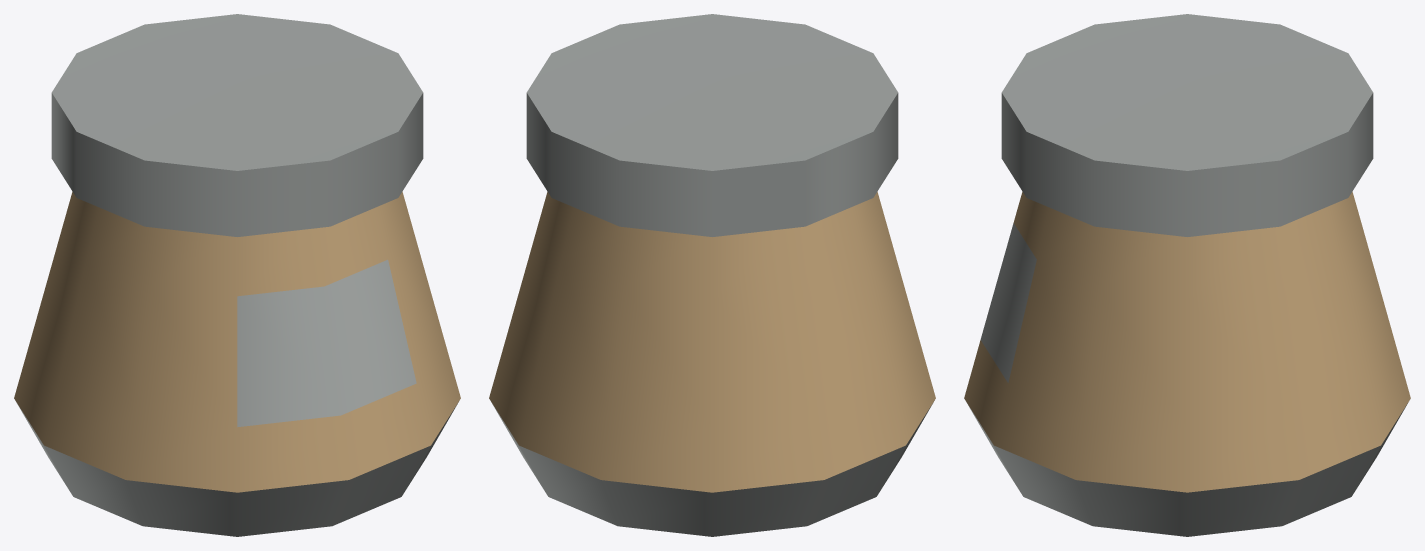
The picture shows the model from 3 angles, left to right: view 1: azimuth 30°, elevation 25°; view 2: azimuth 150°, elevation 25°; view 3: azimuth 270°, elevation 25°; orthographic projection.
Parts seen in each view (by area): view 1: G:\FFXIV-MapTools\exports\x6f2\bg\ex5\01_xkt_x6\fld\x6f2\bgp; view 2: G:\FFXIV-MapTools\exports\x6f2\bg\ex5\01_xkt_x6\fld\x6f2\bgp; view 3: G:\FFXIV-MapTools\exports\x6f2\bg\ex5\01_xkt_x6\fld\x6f2\bgp.
Boxes of the visible parts, x1=… form: G:\FFXIV-MapTools\exports\x6f2\bg\ex5\01_xkt_x6\fld\x6f2\bgp: x1=14, y1=14, x2=460, y2=536; G:\FFXIV-MapTools\exports\x6f2\bg\ex5\01_xkt_x6\fld\x6f2\bgp: x1=489, y1=14, x2=935, y2=536; G:\FFXIV-MapTools\exports\x6f2\bg\ex5\01_xkt_x6\fld\x6f2\bgp: x1=964, y1=14, x2=1410, y2=536.
Size of the model in its own units: 0.322 by 0.3096 by 0.322.
